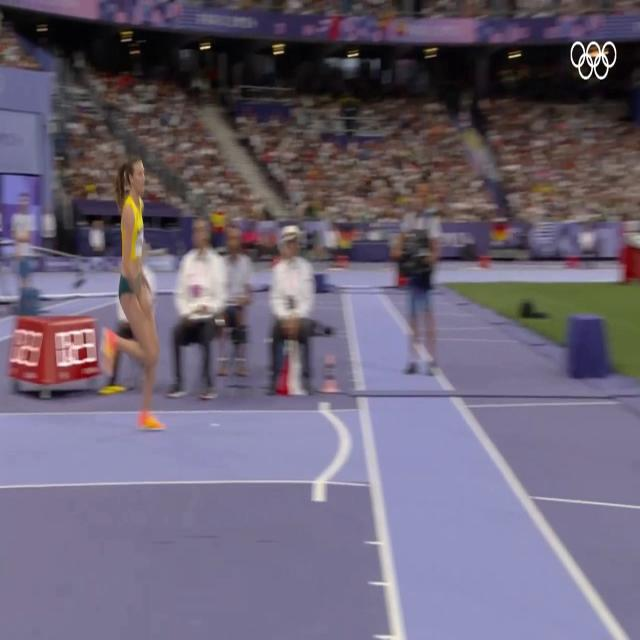run: (99, 156, 169, 436)
